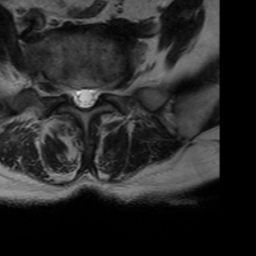CCS_normal: (81, 78, 89, 118)
LFS_normal: (99, 74, 107, 104)
LLS_normal: (89, 78, 99, 113)
RFS_normal: (60, 73, 71, 104)
RLS_normal: (71, 77, 81, 112)
